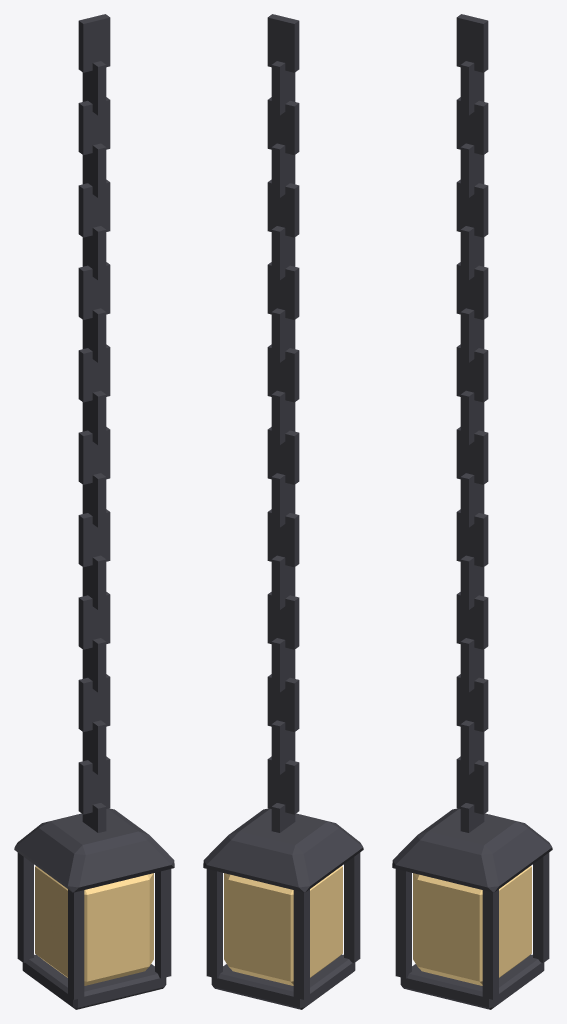
File: HangingLamp.fbx
The picture shows the model from 3 angles, left to right: view 1: azimuth 30°, elevation 25°; view 2: azimuth 150°, elevation 25°; view 3: azimuth 330°, elevation 25°; orthographic projection.
Parts seen in each view (by area): view 1: Iron, Lamp; view 2: Iron, Lamp; view 3: Iron, Lamp.
Part boxes in pixels (bbox=[...]): Iron: bbox=[14, 14, 174, 1009]; Lamp: bbox=[35, 866, 153, 985]; Iron: bbox=[203, 14, 363, 1009]; Lamp: bbox=[224, 866, 342, 985]; Iron: bbox=[392, 14, 552, 1009]; Lamp: bbox=[413, 866, 531, 985].
Size of the model in its own units: 1.03 by 8.87 by 1.03.
